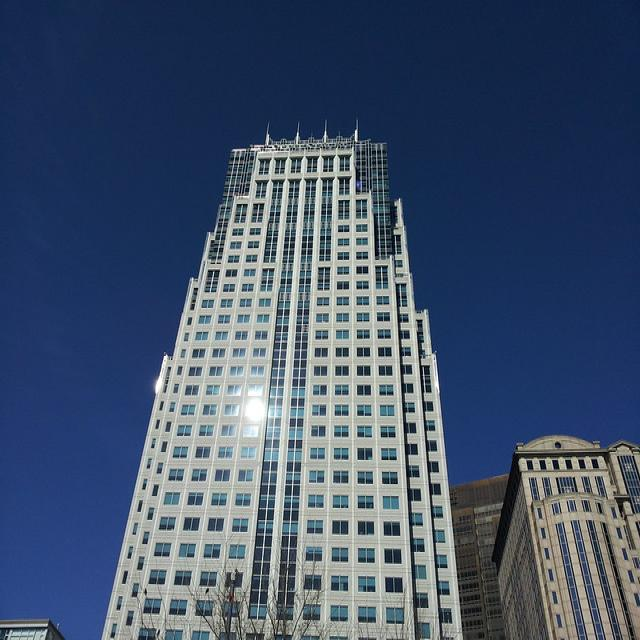Normal_building: (99, 125, 468, 640)
